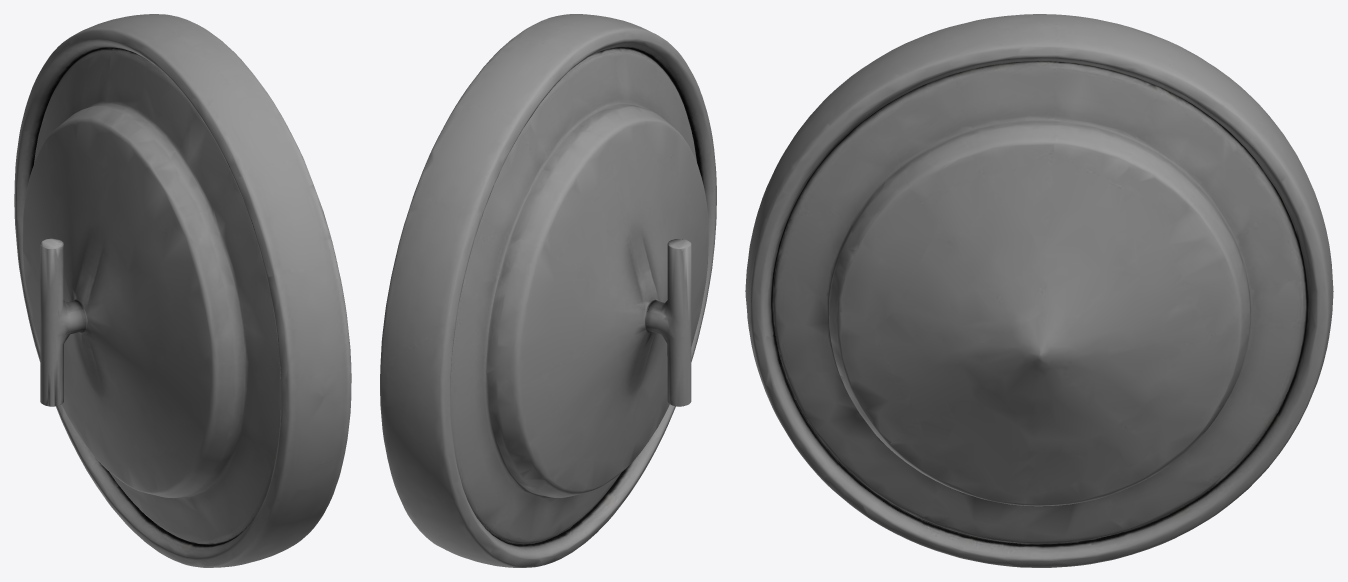
The model's file is btn-text.glb.
3 views of the same model, side by side, from view 1: azimuth 30°, elevation 25°; view 2: azimuth 150°, elevation 25°; view 3: azimuth 270°, elevation 25° (orthographic). The views are drawn at different scales.
Parts seen in each view (by area): view 1: tripo_node_dba0c68e-174f-42c7-823f-efc92ca05546; view 2: tripo_node_dba0c68e-174f-42c7-823f-efc92ca05546; view 3: tripo_node_dba0c68e-174f-42c7-823f-efc92ca05546.
Boxes of the visible parts, box(x1,y1,x2,y2) form: tripo_node_dba0c68e-174f-42c7-823f-efc92ca05546: box(14, 14, 351, 567); tripo_node_dba0c68e-174f-42c7-823f-efc92ca05546: box(380, 14, 716, 567); tripo_node_dba0c68e-174f-42c7-823f-efc92ca05546: box(745, 14, 1333, 567).
Bounding box in the file's own units: 0.5524 × 0.9999 × 0.9999.
Materials: 1 (1 with a texture image).
